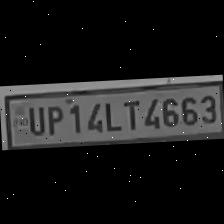1: (64, 100, 83, 136)
3: (197, 90, 217, 126)
4: (80, 99, 104, 134), (138, 94, 160, 130)
6: (158, 94, 178, 128), (178, 92, 198, 126)
L: (100, 97, 119, 133)
P: (42, 102, 65, 136)
T: (118, 96, 140, 132)
U: (23, 104, 46, 136)
